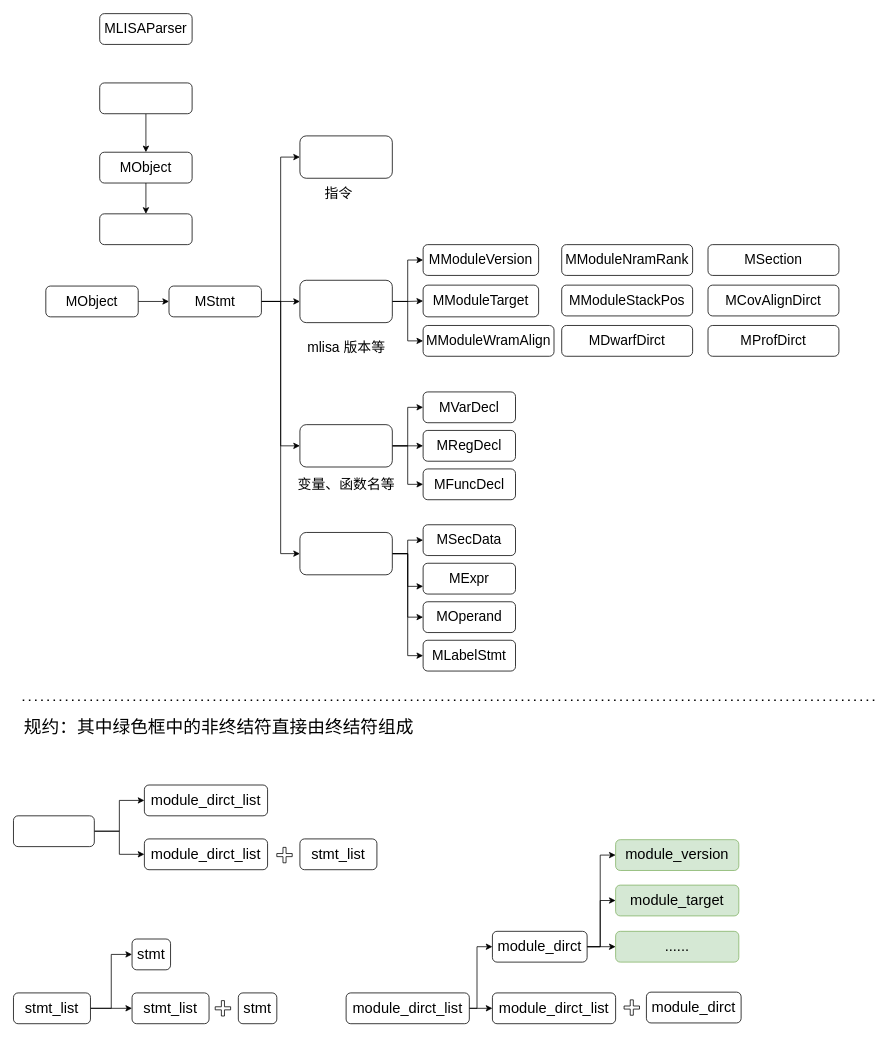
Image size: 892x1037. Some labels were removed from this diagram. Here are the shapes that lost their labels. From the top down, the centre of each, then its label:
At (x=145, y=98): "MContext".
At (x=345, y=156): "MInstStmt 指令语句".
At (x=145, y=229): "MModule".
At (x=345, y=301): "MDirctStmt 伪指令语句".
At (x=345, y=445): "MDeclStmt 声明语句".
At (x=345, y=553): "MValueStmt".
At (x=53, y=831): "module".
